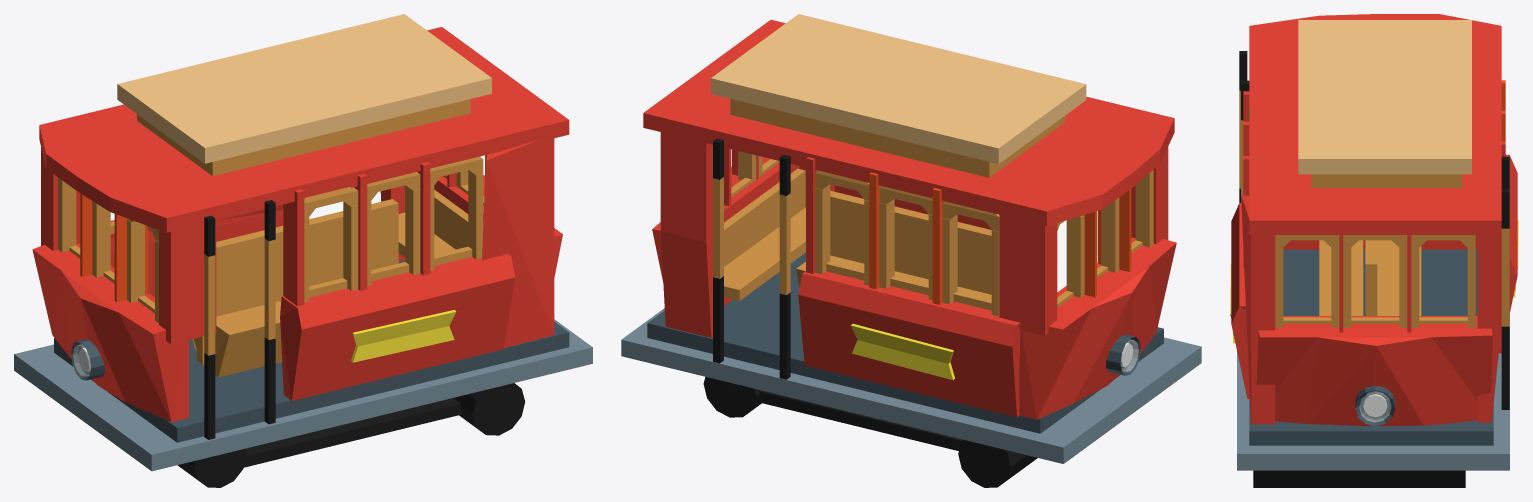
Rendered from cablecar.glb.
3 views of the same model, side by side, from view 1: azimuth 30°, elevation 25°; view 2: azimuth 150°, elevation 25°; view 3: azimuth 270°, elevation 25° (orthographic).
Visible parts, largest first — view 1: Node; view 2: Node; view 3: Node.
Boxes of the visible parts, x1=… form: Node: x1=14, y1=14, x2=592, y2=487; Node: x1=621, y1=14, x2=1201, y2=487; Node: x1=1230, y1=14, x2=1518, y2=487.
Size of the model in its own units: 1.27 by 0.9199 by 0.7208.
